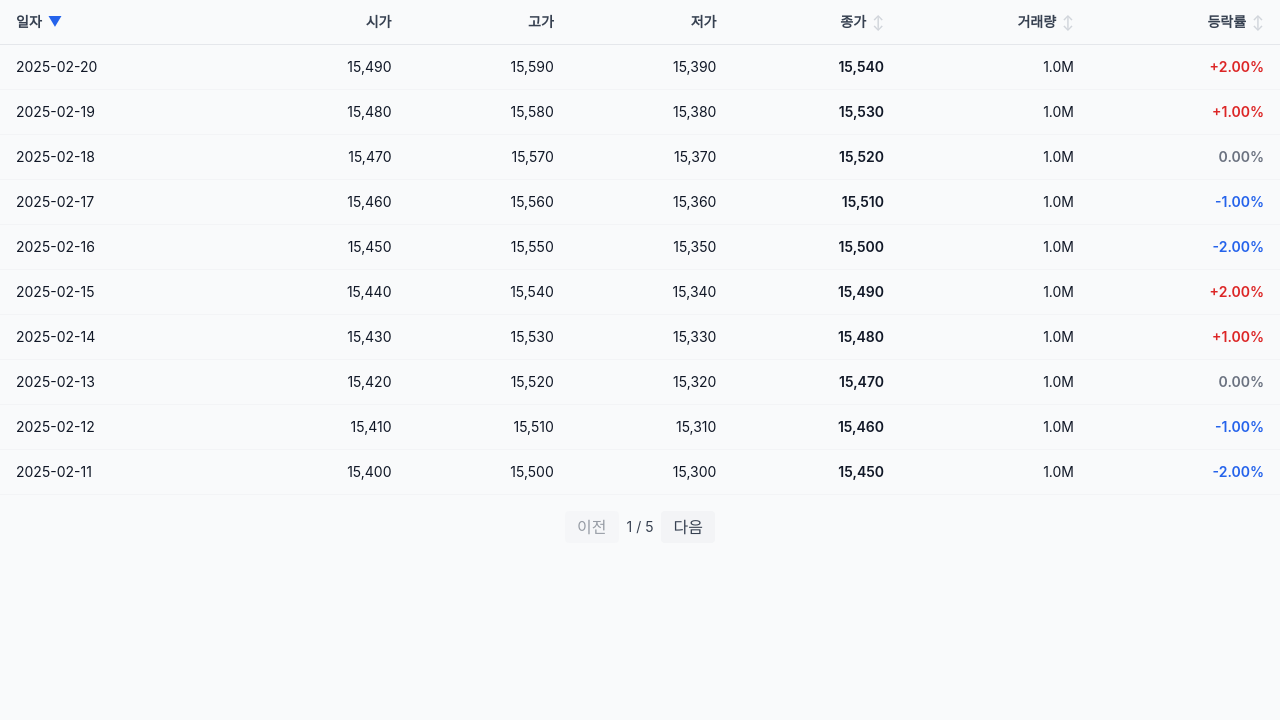
Test: PriceTable › 페이지네이션 › 이전 버튼을 클릭하면 이전 페이지로 이동한다
Click the button "다음" at (688, 527), box [662,511,715,543]
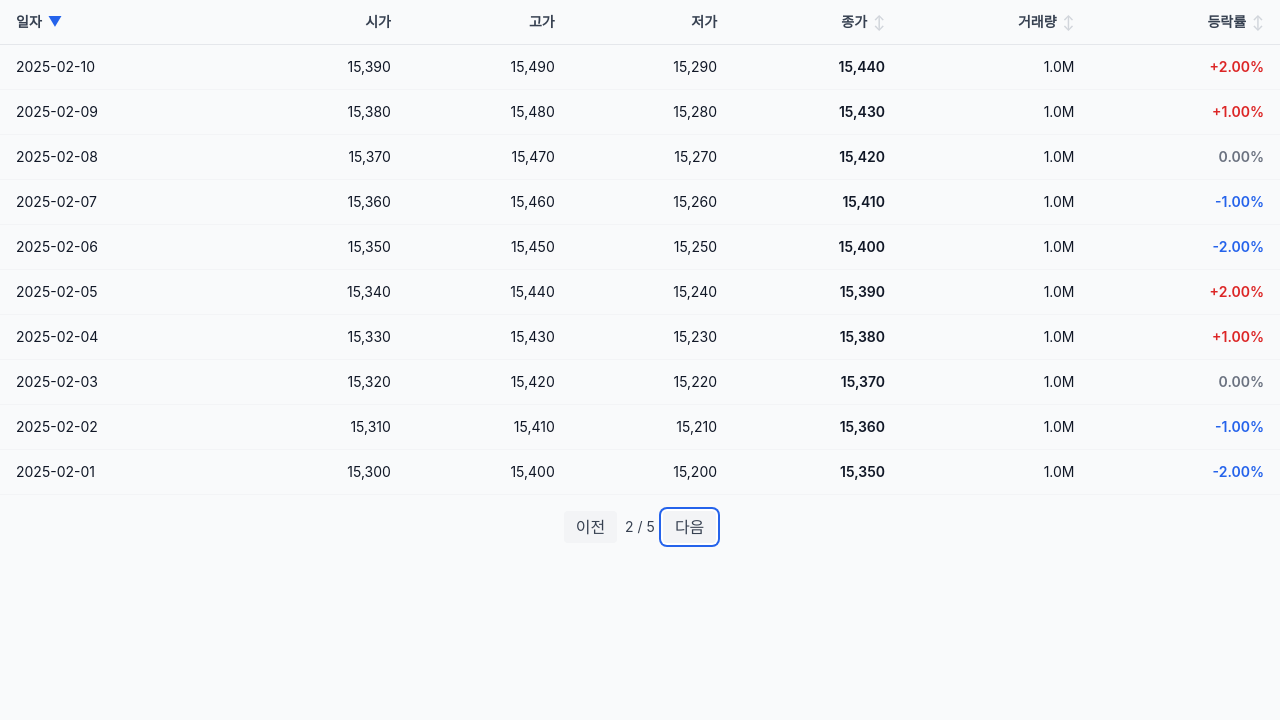
Result: the text "2 / 5" is shown at [625,517,655,537]
Click the button "이전" at (590, 527), box [564,511,617,543]
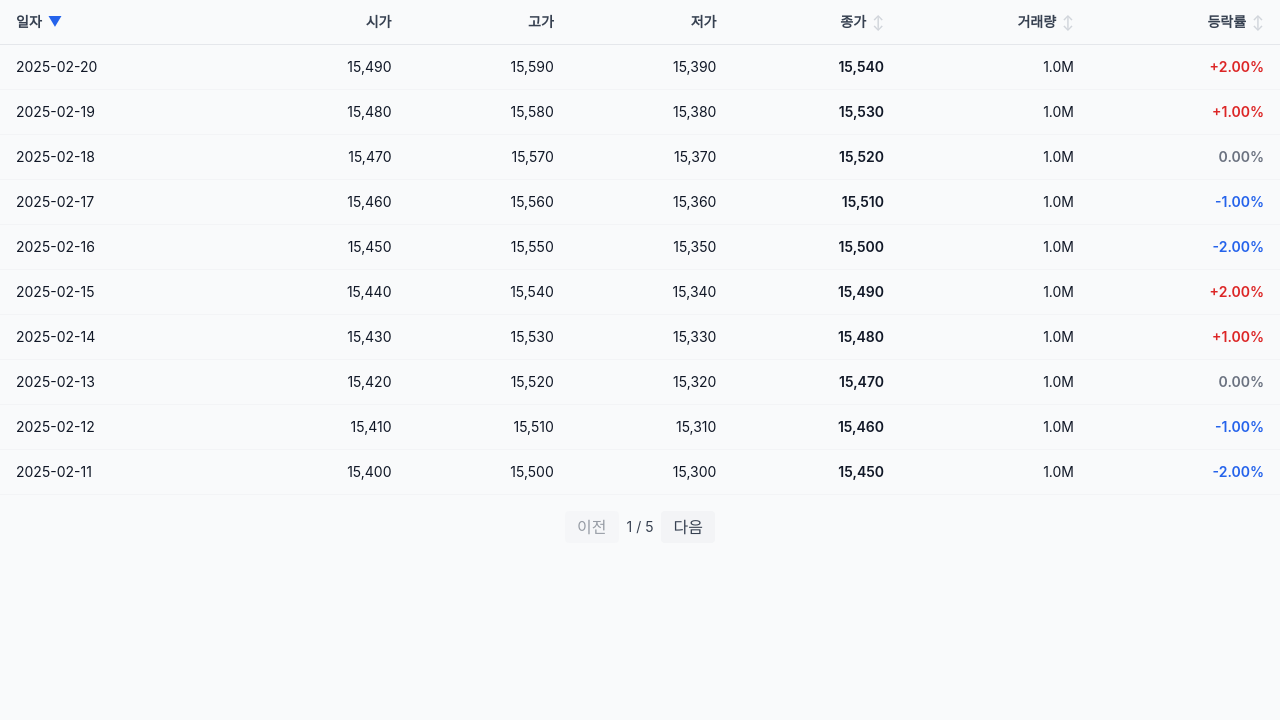
Result: the text "1 / 5" is shown at [626,517,653,537]
